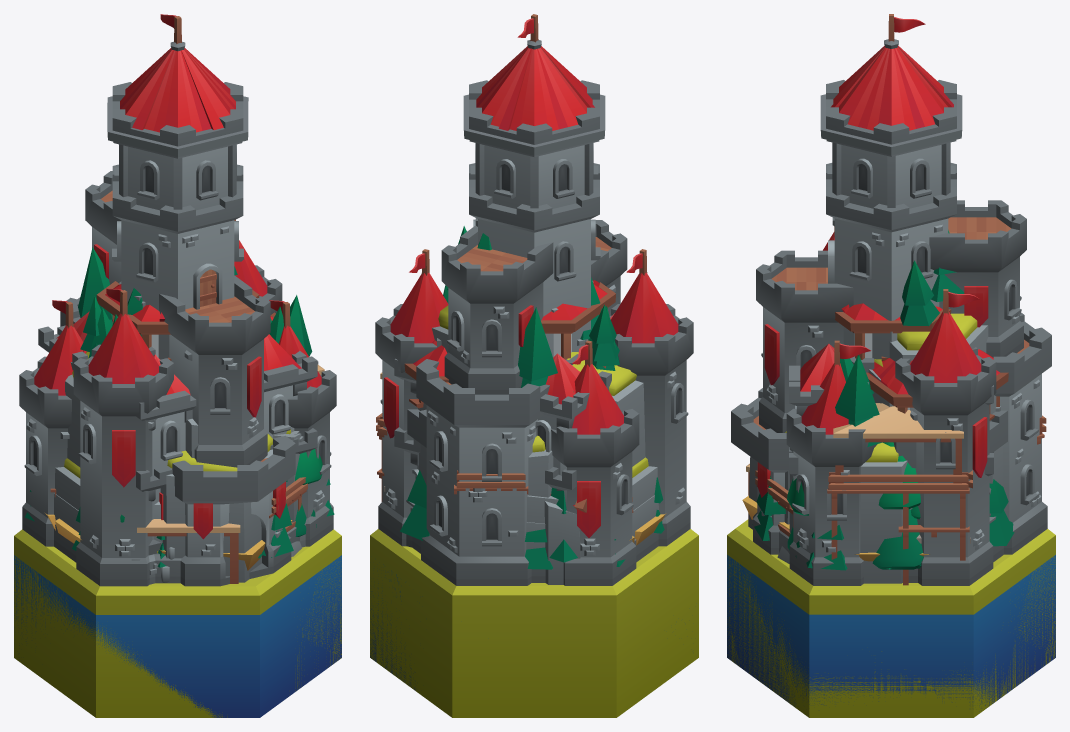
Rendered from world.glb.
The picture shows the model from 3 angles, left to right: view 1: azimuth 30°, elevation 25°; view 2: azimuth 150°, elevation 25°; view 3: azimuth 270°, elevation 25°; orthographic projection.
Parts seen in each view (by area): view 1: building_castle_red, hex_grass, hex_water, building_barracks_red, mountain_C_grass_trees, mountain_A_grass_trees, building_scaffolding, building_tower_A_top_red, mountain_B_grass_trees, trees_A_large, trees_B_large, building_grain (+1 smaller); view 2: building_castle_red, hex_grass, mountain_C_grass_trees, building_barracks_red, mountain_A_grass_trees, trees_A_large, building_tower_A_top_red, mountain_B_grass_trees, building_mine_red, building_archeryrange_red, building_scaffolding, mountain_A (+2 smaller); view 3: building_castle_red, hex_water, hex_grass, building_scaffolding, mountain_B_grass_trees, building_archeryrange_red, trees_A_large, building_barracks_red, trees_B_medium, building_tower_A_top_red, mountain_A_grass_trees, mountain_B (+2 smaller).
Part boxes in pixels (x1,y1,x2,y2): building_castle_red: (19,14,336,586); hex_grass: (14,529,341,717); hex_water: (14,555,341,717); building_barracks_red: (38,311,317,584); mountain_C_grass_trees: (65,288,272,582); mountain_A_grass_trees: (54,247,312,522); building_scaffolding: (50,364,324,583); building_tower_A_top_red: (96,281,259,360); mountain_B_grass_trees: (55,266,283,510); trees_A_large: (25,479,334,567); trees_B_large: (120,449,322,536); building_grain: (45,513,292,570); building_castle_red: (375,14,693,585); hex_grass: (370,529,698,717); mountain_C_grass_trees: (419,277,645,497); building_barracks_red: (394,313,614,547); mountain_A_grass_trees: (443,285,654,523); trees_A_large: (400,470,664,569); building_tower_A_top_red: (541,280,615,359); mountain_B_grass_trees: (424,226,657,523); building_mine_red: (544,501,580,584); building_archeryrange_red: (404,340,586,512); building_scaffolding: (376,372,633,512); mountain_A: (526,495,658,549); building_castle_red: (731,14,1051,585); hex_water: (727,555,1055,711); hex_grass: (727,519,1055,717); building_scaffolding: (746,403,1046,585); mountain_B_grass_trees: (840,230,996,583); building_archeryrange_red: (866,349,1008,523); trees_A_large: (752,475,1014,570); building_barracks_red: (789,343,993,476); trees_B_medium: (872,442,923,569); building_tower_A_top_red: (835,303,951,360); mountain_A_grass_trees: (789,356,882,532); mountain_B: (861,325,987,583).
Size of the model in its own units: 2 by 4.98 by 2.31.
Materials: 1 (1 with a texture image).
